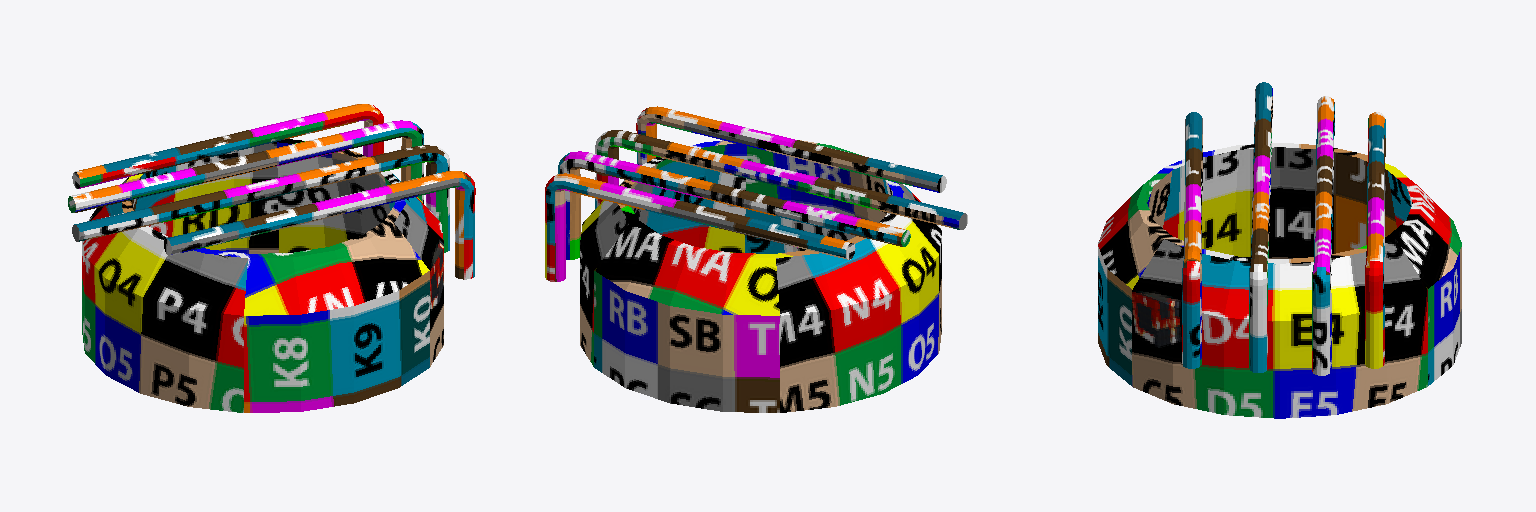
3 views of the same model, side by side, from view 1: azimuth 30°, elevation 25°; view 2: azimuth 150°, elevation 25°; view 3: azimuth 270°, elevation 25° (orthographic).
Visible parts, largest first — view 1: default; view 2: default; view 3: default.
Boxes of the visible parts, x1,y1,x2,y2 form: default: [68, 104, 475, 412]; default: [545, 106, 967, 412]; default: [1098, 82, 1461, 418].
Bounding box in the file's own units: 6.9 × 2.89 × 5.79.
1 materials, 1 textured.